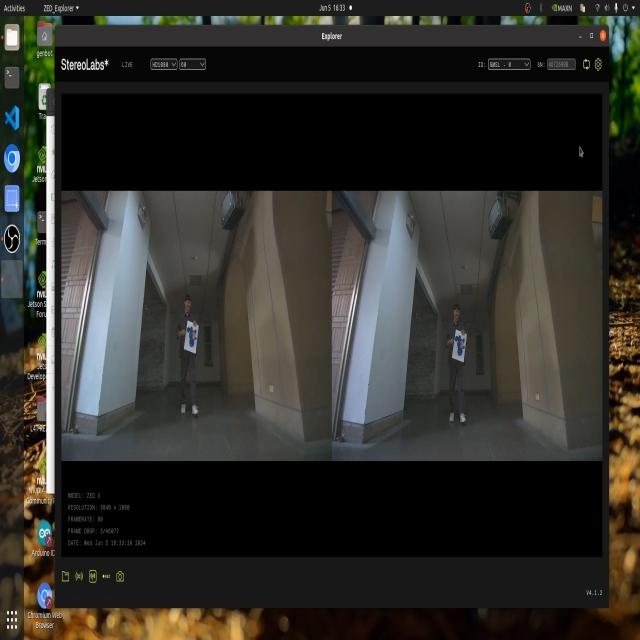blue: (454, 333, 470, 362), (184, 318, 196, 351)
